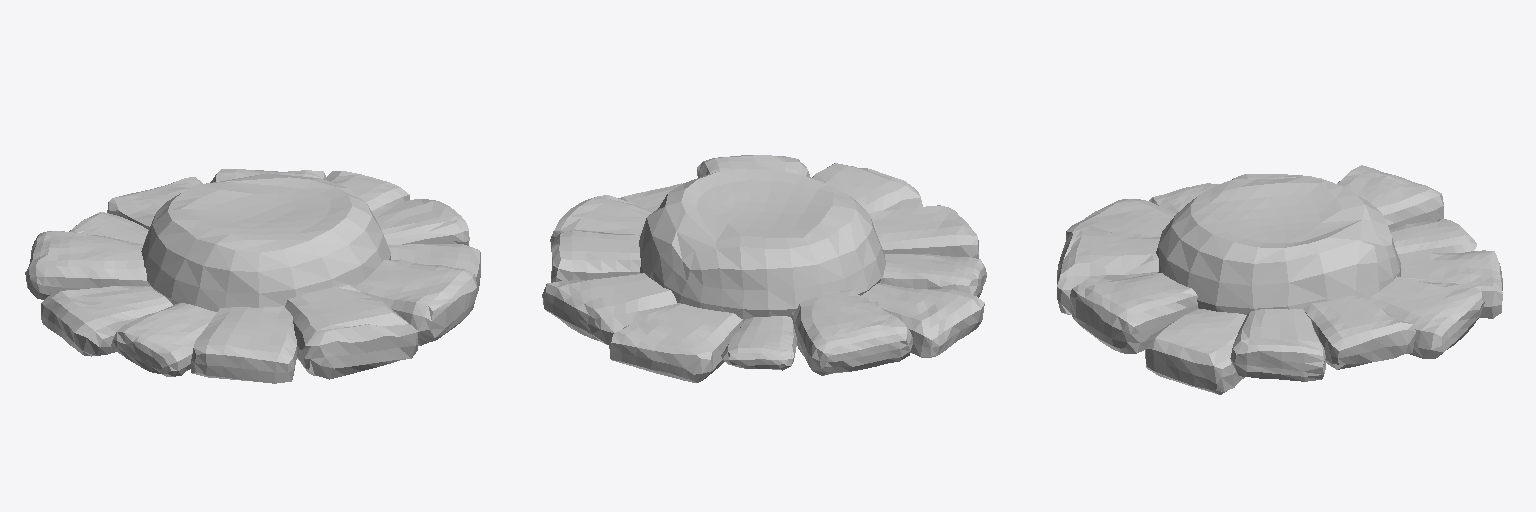
The model's file is Button.OBJ.
3 views of the same model, side by side, from view 1: azimuth 30°, elevation 25°; view 2: azimuth 150°, elevation 25°; view 3: azimuth 270°, elevation 25° (orthographic).
Visible parts, largest first — view 1: ZBrush_defualt_group; view 2: ZBrush_defualt_group; view 3: ZBrush_defualt_group.
Boxes of the visible parts, <box> form: ZBrush_defualt_group: <box>25,169,480,383</box>; ZBrush_defualt_group: <box>542,155,986,382</box>; ZBrush_defualt_group: <box>1057,165,1502,394</box>.
Size of the model in its own units: 4.69 by 1.12 by 4.59.